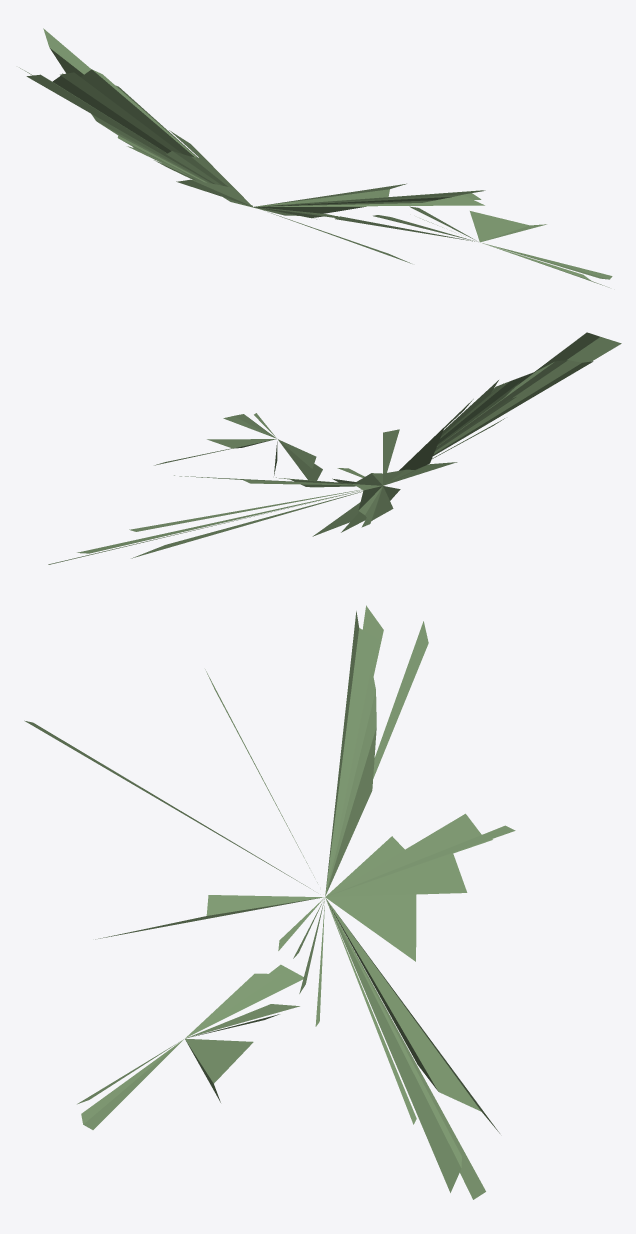
Rendered from c_1664_17819_parks.glb.
The picture shows the model from 3 angles, top to bottom: view 1: azimuth 30°, elevation 25°; view 2: azimuth 150°, elevation 25°; view 3: azimuth 270°, elevation 25°; orthographic projection. The views are drawn at different scales.
Parts seen in each view (by area): view 1: geometry_0; view 2: geometry_0; view 3: geometry_0.
Part boxes in pixels (box(x1,y1,x2,y2)): geometry_0: box(19, 28, 612, 287); geometry_0: box(48, 332, 621, 564); geometry_0: box(24, 605, 515, 1199).
Bounding box in the file's own units: 499 × 272 × 444.
